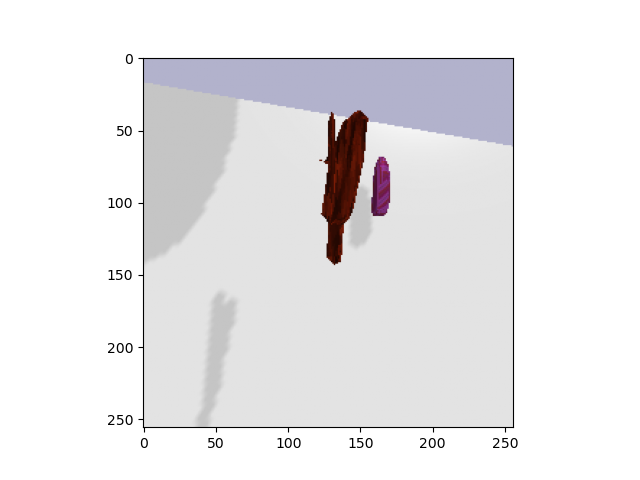v249b387_105: (372, 156, 393, 218)
v249b387_107: (320, 102, 369, 264)
